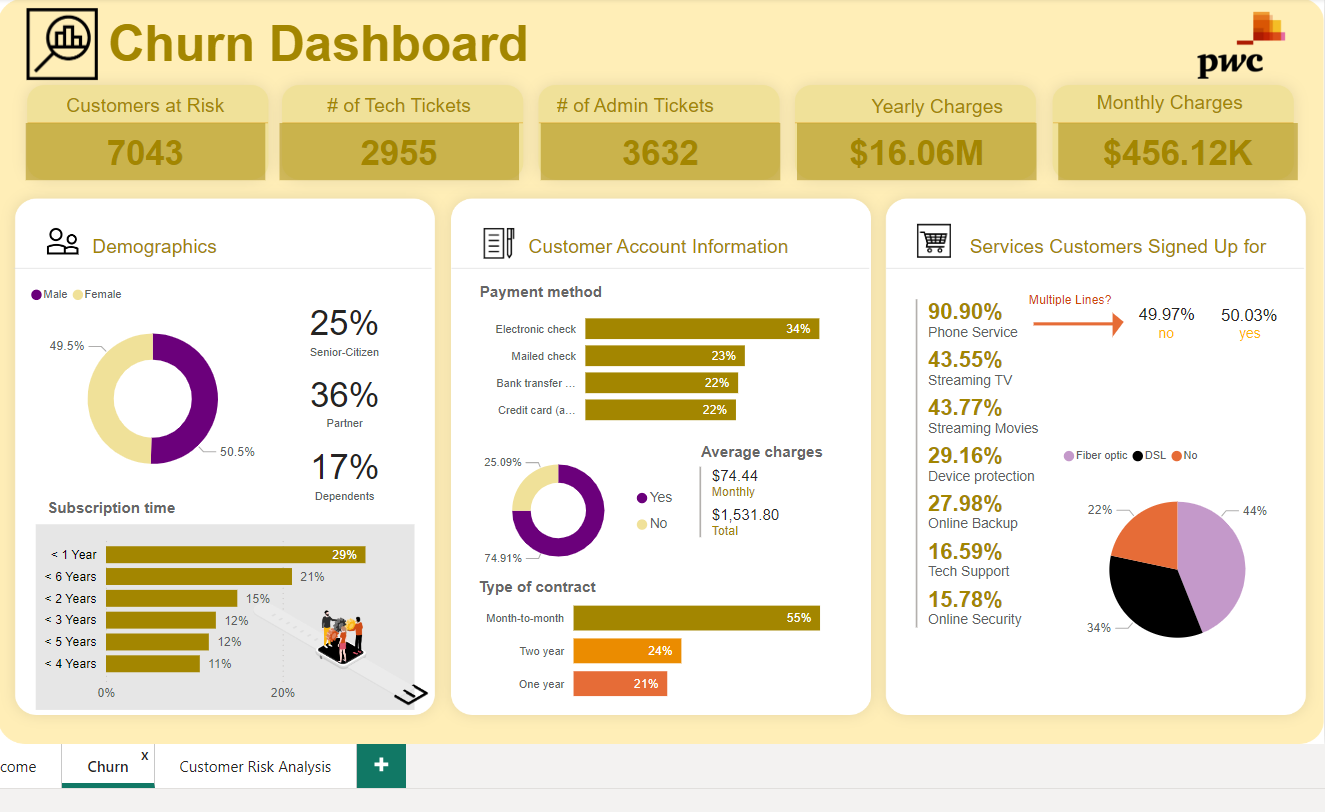

What the dashboard file says about the page in this screenshot:
{"tool":"powerbi","page":{"name":"Churn","canvas":[1280,720],"ordinal":1},"visuals":[{"type":"textbox","box":[102.4,12.4,457.9,69.8],"z":0},{"type":"image","box":[1139.6,9,121.5,74.2],"z":1000},{"type":"card","fields":{"Values":["CountNonNull(churn.customerID)"]},"box":[27.2,121.1,230.9,55.5],"z":2000},{"type":"card","fields":{"Values":["Sum(churn.numTechTickets)"]},"box":[272.7,121.1,230.9,55.5],"z":3000},{"type":"card","fields":{"Values":["Sum(churn.numAdminTickets)"]},"box":[525.1,121.1,230.9,55.5],"z":4000},{"type":"card","fields":{"Values":["Sum(churn.TotalCharges)"]},"box":[771.8,121.1,230.9,55.5],"z":5000},{"type":"card","fields":{"Values":["Sum(churn.MonthlyCharges)"]},"box":[1024.2,121.1,230.9,55.5],"z":6000},{"type":"donutChart","fields":{"Category":["churn.gender"],"Y":["CountNonNull(churn.gender)"]},"box":[27.2,268.2,245.6,210.5],"z":7000},{"type":"card","fields":{"Values":["churn.SeniorCitizen in %"]},"box":[271.4,268.7,128.1,100.2],"z":8000},{"type":"card","fields":{"Values":["churn.Partner in %"]},"box":[271.4,338.1,128.4,100.2],"z":9000},{"type":"card","fields":{"Values":["churn.Dependents in %"]},"box":[271.4,407.5,128.4,100.2],"z":10000},{"type":"textbox","box":[43.8,478.5,314.2,35],"z":11000},{"type":"clusteredBarChart","fields":{"Y":["CountNonNull(churn.Churn)"],"Category":["churn.Loyalty"]},"box":[37,507.7,365.7,179],"z":12000},{"type":"image","box":[242.2,563.6,178.8,140.3],"z":13000},{"type":"clusteredBarChart","fields":{"Category":["churn.Contract"],"Y":["CountNonNull(churn.Contract)"]},"box":[460.2,560.9,370.8,131.9],"z":14000},{"type":"clusteredBarChart","fields":{"Y":["CountNonNull(churn.PaymentMethod)"],"Category":["churn.PaymentMethod"]},"box":[461.8,286.3,370.1,138.1],"z":15000},{"type":"textbox","box":[461.3,269.7,314.9,35.6],"z":16000},{"type":"donutChart","fields":{"Category":["churn.PaperlessBilling"],"Y":["CountNonNull(churn.PaperlessBilling)"]},"box":[461.8,424.4,203.7,140.3],"z":17000},{"type":"multiRowCard","fields":{"Values":["Avg(churn.MonthlyCharges)","Avg(churn.TotalCharges)"]},"box":[673.4,448.2,149.4,95.1],"z":18000},{"type":"textbox","box":[460.2,555.1,314.9,35.6],"z":19000},{"type":"textbox","box":[674.2,424.7,148.3,35.6],"z":20000},{"type":"pieChart","fields":{"Category":["churn.InternetService"],"Y":["Divide(CountNonNull(churn.InternetService), ScopedEval(CountNonNull(churn.InternetService), []))"]},"box":[1024.3,423.5,230.4,229.2],"z":21000},{"type":"card","fields":{"Values":["churn.Multiple Lines in %"]},"box":[1172.8,276.4,72.2,62.6],"z":22000},{"type":"card","fields":{"Values":["churn.Multiple lines no in %"]},"box":[1093.1,276.4,72.2,61.6],"z":23000},{"type":"textbox","box":[971.7,278.2,129.4,27.2],"z":24000},{"type":"textbox","box":[1092.2,311,73.2,35.6],"z":25000},{"type":"textbox","box":[1172.8,311,73.2,35.6],"z":26000},{"type":"multiRowCard","fields":{"Values":["churn.Phone Service in %","churn.Streaming TV in %","churn.Streaming Movies in %","churn.Device protection in %","churn.Online Bacup in %","churn.Tech Support in %","churn.Online Sec. in %"]},"box":[882.2,286,165.3,414.3],"z":27000},{"type":"basicShape","box":[990.2,300.5,97.3,28.2],"z":28000},{"type":"basicShape","box":[1063.1,296.7,37.9,32.1],"z":29000},{"type":"textbox","box":[508.2,224.1,314.6,36.2],"z":31000},{"type":"image","box":[461,217.6,47.2,39.5],"z":32000},{"type":"textbox","box":[933.7,224.1,306.7,32.8],"z":33000},{"type":"textbox","box":[87.1,224.1,315.8,36.2],"z":34000},{"type":"image","box":[882.9,211.8,42.4,43.3],"z":35000},{"type":"image","box":[43,211.8,40.5,44.3],"z":36000},{"type":"image","box":[20.4,4.5,84.9,79.2],"z":39000},{"type":"textbox","box":[27.2,88.3,230.9,36.2],"z":40000},{"type":"textbox","box":[272.7,88.3,230.9,36.2],"z":41000},{"type":"textbox","box":[512.7,88.3,207.1,36.2],"z":42000},{"type":"textbox","box":[811.5,89.4,191.3,36.2],"z":43000},{"type":"textbox","box":[1036.7,86,191.3,36.2],"z":44000}]}

Visuals, with their boxes on the page's 1280x720 design canvas (x1, y1, x2, y2). These are canvas units, not pixel positions in the 1325x812 screenshot, which may show the page scaled, cropped or inside an application window:
textbox: Rect(102, 12, 560, 82)
image: Rect(1140, 9, 1261, 83)
card - CountNonNull(churn.customerID): Rect(27, 121, 258, 177)
card - Sum(churn.numTechTickets): Rect(273, 121, 504, 177)
card - Sum(churn.numAdminTickets): Rect(525, 121, 756, 177)
card - Sum(churn.TotalCharges): Rect(772, 121, 1003, 177)
card - Sum(churn.MonthlyCharges): Rect(1024, 121, 1255, 177)
donutChart - churn.gender x CountNonNull(churn.gender): Rect(27, 268, 273, 479)
card - churn.SeniorCitizen in %: Rect(271, 269, 400, 369)
card - churn.Partner in %: Rect(271, 338, 400, 438)
card - churn.Dependents in %: Rect(271, 408, 400, 508)
textbox: Rect(44, 478, 358, 514)
clusteredBarChart - CountNonNull(churn.Churn) x churn.Loyalty: Rect(37, 508, 403, 687)
image: Rect(242, 564, 421, 704)
clusteredBarChart - churn.Contract x CountNonNull(churn.Contract): Rect(460, 561, 831, 693)
clusteredBarChart - CountNonNull(churn.PaymentMethod) x churn.PaymentMethod: Rect(462, 286, 832, 424)
textbox: Rect(461, 270, 776, 305)
donutChart - churn.PaperlessBilling x CountNonNull(churn.PaperlessBilling): Rect(462, 424, 666, 565)
multiRowCard - Avg(churn.MonthlyCharges) x Avg(churn.TotalCharges): Rect(673, 448, 823, 543)
textbox: Rect(460, 555, 775, 591)
textbox: Rect(674, 425, 822, 460)
pieChart - churn.InternetService x Divide(CountNonNull(churn.InternetService), ScopedEval(CountNonNull(churn.InternetService), [])): Rect(1024, 424, 1255, 653)
card - churn.Multiple Lines in %: Rect(1173, 276, 1245, 339)
card - churn.Multiple lines no in %: Rect(1093, 276, 1165, 338)
textbox: Rect(972, 278, 1101, 305)
textbox: Rect(1092, 311, 1165, 347)
textbox: Rect(1173, 311, 1246, 347)
multiRowCard - churn.Phone Service in % x churn.Streaming TV in %: Rect(882, 286, 1048, 700)
basicShape: Rect(990, 300, 1088, 329)
basicShape: Rect(1063, 297, 1101, 329)
textbox: Rect(508, 224, 823, 260)
image: Rect(461, 218, 508, 257)
textbox: Rect(934, 224, 1240, 257)
textbox: Rect(87, 224, 403, 260)
image: Rect(883, 212, 925, 255)
image: Rect(43, 212, 84, 256)
image: Rect(20, 4, 105, 84)
textbox: Rect(27, 88, 258, 124)
textbox: Rect(273, 88, 504, 124)
textbox: Rect(513, 88, 720, 124)
textbox: Rect(812, 89, 1003, 126)
textbox: Rect(1037, 86, 1228, 122)
